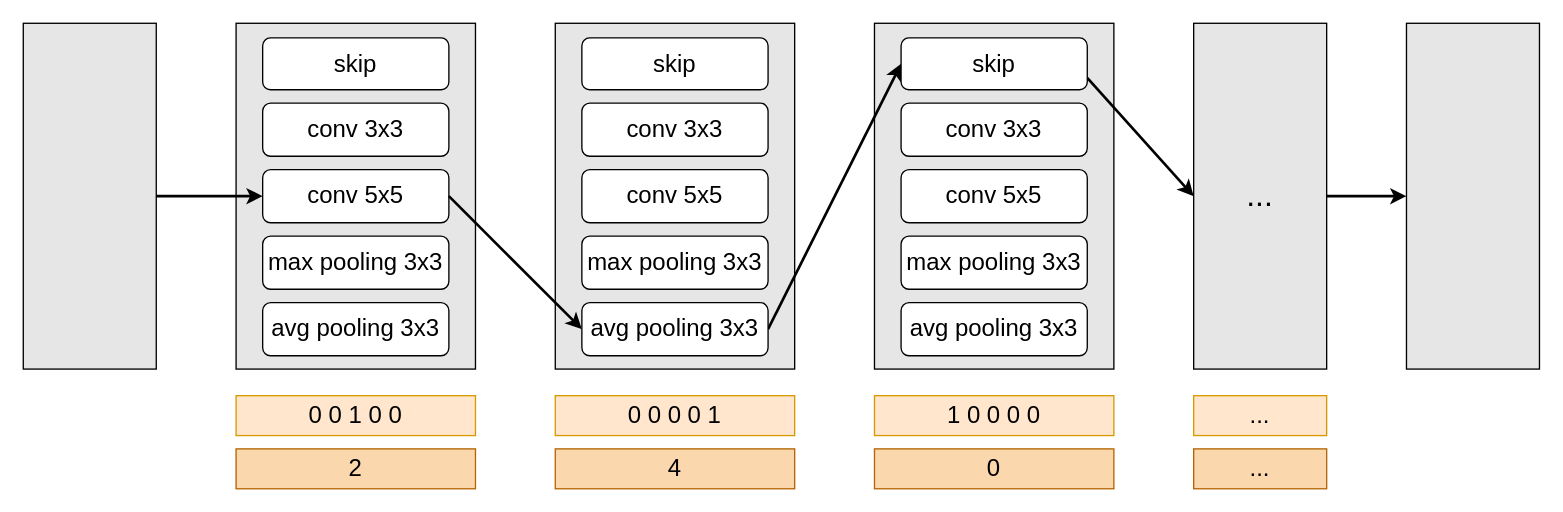
This 1563x512 diagram has some shape labels left out. Each missing label, with the centre of its shape:
Head: (1472,195)
Stem: (89,195)
